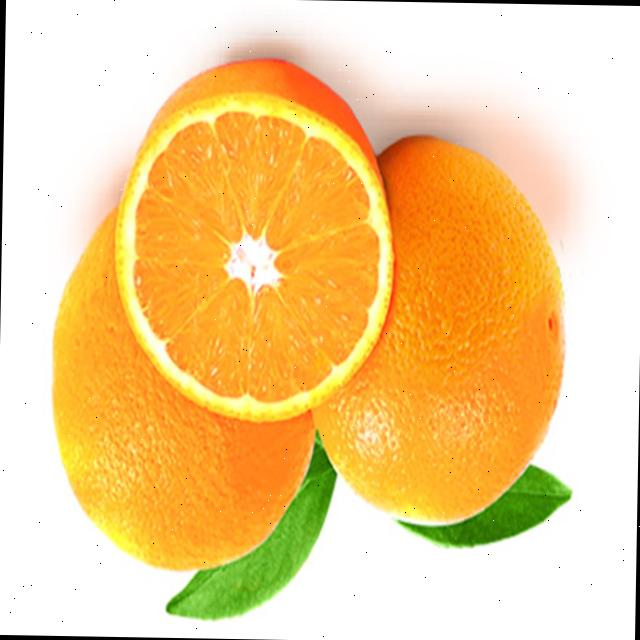Jeruk: (110, 56, 398, 427), (309, 133, 569, 530), (47, 204, 320, 575)
